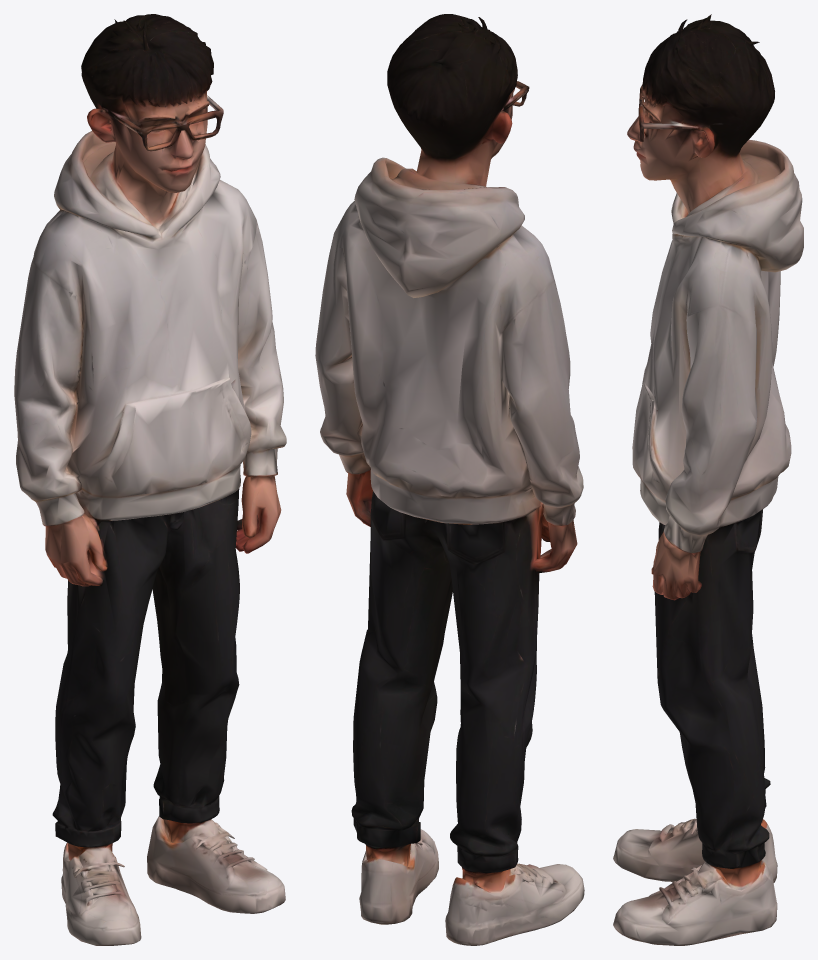
File: digital-human.glb
3 renders of one model, left to right at view 1: azimuth 30°, elevation 25°; view 2: azimuth 150°, elevation 25°; view 3: azimuth 270°, elevation 25°, orthographic.
Visible parts, largest first — view 1: node_0; view 2: node_0; view 3: node_0.
Part boxes in pixels (x1,y1,x2,y2): node_0: [14, 14, 286, 945]; node_0: [315, 14, 584, 945]; node_0: [613, 14, 803, 945].
Bounding box in the file's own units: 0.3569 × 1.18 × 0.2319.
1 material, 1 textured.
